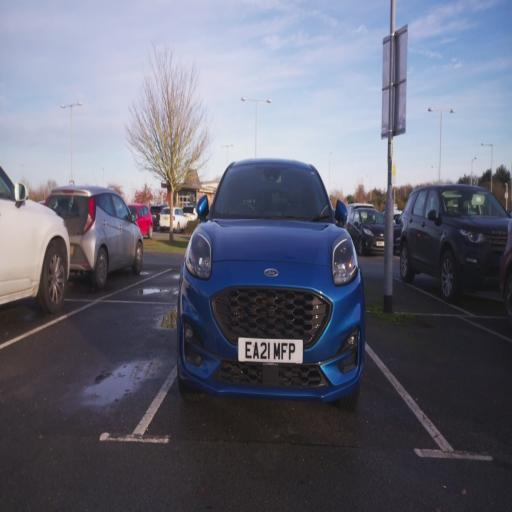numberplates: (238, 338, 303, 363), (70, 246, 75, 256), (376, 241, 384, 246), (162, 215, 169, 220), (186, 215, 191, 219), (500, 256, 502, 266), (153, 215, 156, 218)
